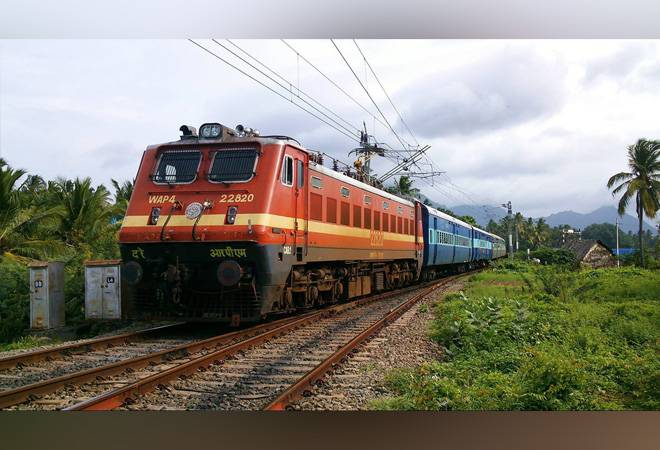train: (118, 119, 508, 326)
